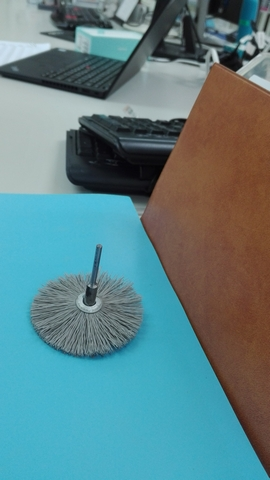TOOL: (18, 234, 155, 376), (27, 257, 160, 364)
